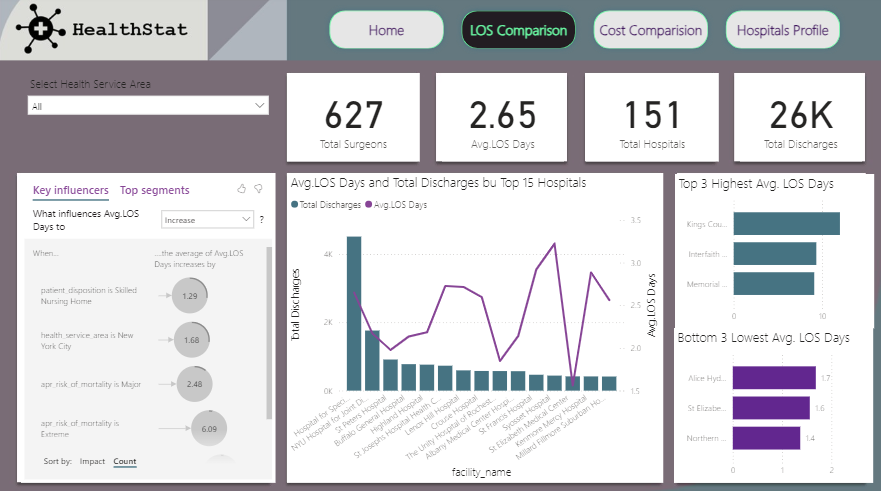

What the dashboard file says about the page in this screenshot:
{"tool":"powerbi","page":{"name":"LOS Comparison","canvas":[1280,720],"ordinal":1},"visuals":[{"type":"lineStackedColumnComboChart","title":" Avg.LOS Days and Total Discharges  bu Top 15 Hospitals","fields":{"Category":["hospital_discharges.facility_name"],"Y":["__ Measures.Total Discharges"],"Y2":["__ Measures.Avg.LOS Days"]},"box":[416,256,544,448],"z":0},{"type":"card","fields":{"Values":["__ Measures.Total Surgeons"]},"box":[416,112,192,128],"z":1000},{"type":"slicer","fields":{"Values":["hospital_discharges.health_service_area"]},"box":[32,112,368,112],"z":2000},{"type":"card","fields":{"Values":["__ Measures.Avg.LOS Days"]},"box":[640,112,176,128],"z":3000},{"type":"card","fields":{"Values":["__ Measures.Total Hospitals"]},"box":[848,112,192,128],"z":4000},{"type":"card","fields":{"Values":["__ Measures.Total Discharges"]},"box":[1072,112,176,128],"z":5000},{"type":"keyDriversVisual","fields":{"Target":["__ Measures.Avg.LOS Days"],"ExplainBy":["hospital_discharges.apr_risk_of_mortality","hospital_discharges.apr_severity_of_illness_description","hospital_discharges.ccs_diagnosis_description","hospital_discharges.patient_disposition","hospital_discharges.gender","hospital_discharges.Age Bins","Surgical_Program_Size_Sammary.Surgical Program Size","hospital_discharges.health_service_area"]},"box":[32,256,368,448],"z":6000},{"type":"clusteredBarChart","title":"Top 3  Highest   Avg. LOS Days ","fields":{"Category":["hospital_discharges.facility_name"],"Y":["__ Measures.Avg.LOS Days"]},"box":[976.7,256.7,288.3,223.3],"z":7000},{"type":"clusteredBarChart","title":"Bottom 3  Lowest Avg. LOS Days ","fields":{"Category":["hospital_discharges.facility_name"],"Y":["__ Measures.Avg.LOS Days"]},"box":[976,480,288,224],"z":8000},{"type":"pageNavigator","box":[470,13.3,756.7,71.7],"z":8001}]}

Visuals, with their boxes in screenshot pixels (x1, y1, x2, y2), scaled from the page's 1280x720 canvas onto the 881x491 screenshot:
" Avg.LOS Days and Total Discharges  bu Top 15 Hospitals" lineStackedColumnComboChart: 286/175/661/480
card - __ Measures.Total Surgeons: 286/76/418/164
slicer - hospital_discharges.health_service_area: 22/76/275/153
card - __ Measures.Avg.LOS Days: 440/76/562/164
card - __ Measures.Total Hospitals: 584/76/716/164
card - __ Measures.Total Discharges: 738/76/859/164
keyDriversVisual - __ Measures.Avg.LOS Days x hospital_discharges.apr_risk_of_mortality: 22/175/275/480
"Top 3  Highest   Avg. LOS Days " clusteredBarChart: 672/175/871/327
"Bottom 3  Lowest Avg. LOS Days " clusteredBarChart: 672/327/870/480
pageNavigator: 323/9/844/58
